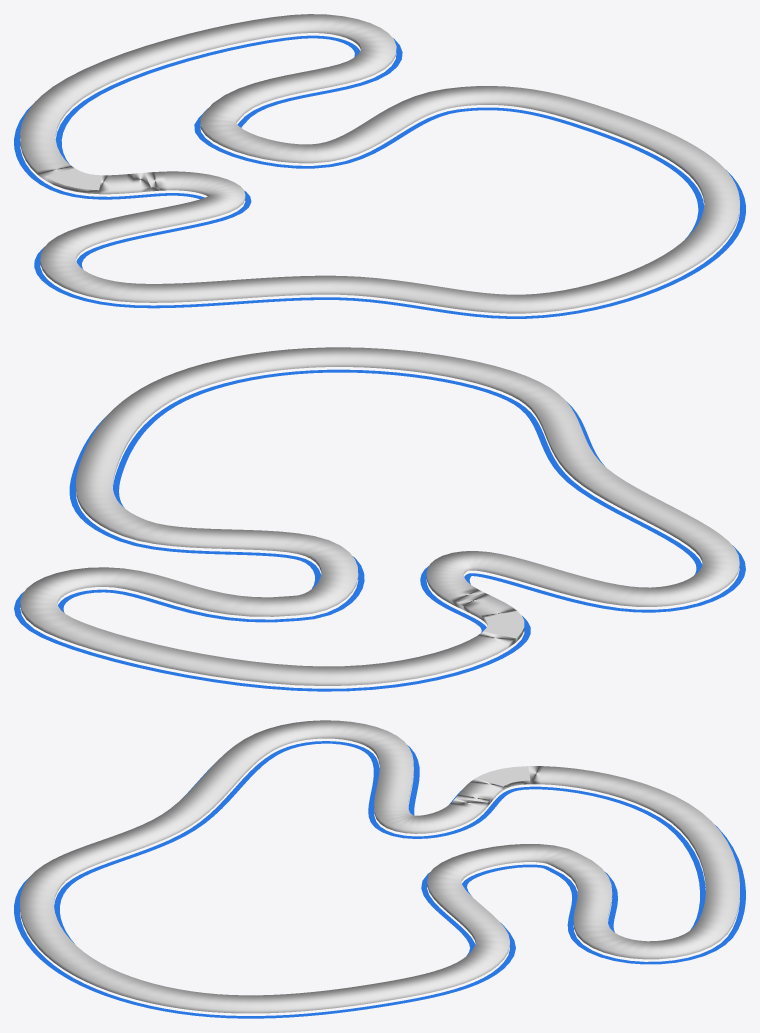
File: racing_map_nodes_1_1.glb
The picture shows the model from 3 angles, top to bottom: view 1: azimuth 30°, elevation 25°; view 2: azimuth 150°, elevation 25°; view 3: azimuth 270°, elevation 25°; orthographic projection. The views are drawn at different scales.
Visible parts, largest first — view 1: path1322.002, path1322.001; view 2: path1322.002, path1322.001; view 3: path1322.002, path1322.001.
Boxes of the visible parts, left/top/right/bottom form: path1322.002: left=20, top=14, right=739, bottom=313; path1322.001: left=14, top=35, right=745, bottom=318; path1322.002: left=20, top=347, right=739, bottom=685; path1322.001: left=14, top=369, right=745, bottom=691; path1322.002: left=20, top=720, right=739, bottom=1013; path1322.001: left=14, top=741, right=745, bottom=1018.
Size of what is drawn, in the model's own units: 47.28 by 0.48 by 49.69.
